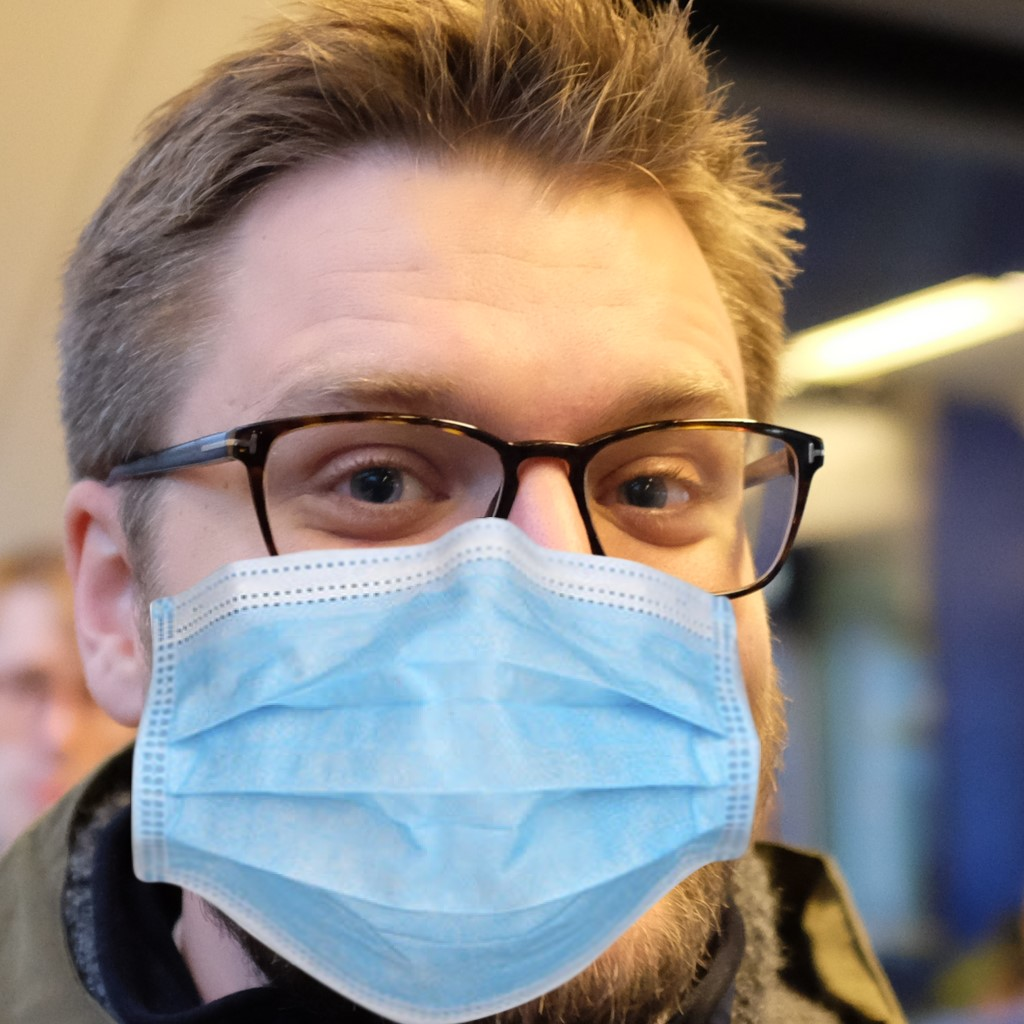con_mascara: (84, 113, 775, 939)
